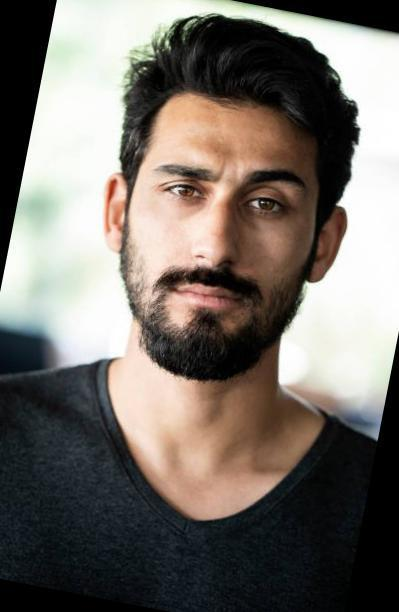Sober: (138, 110, 313, 355)
